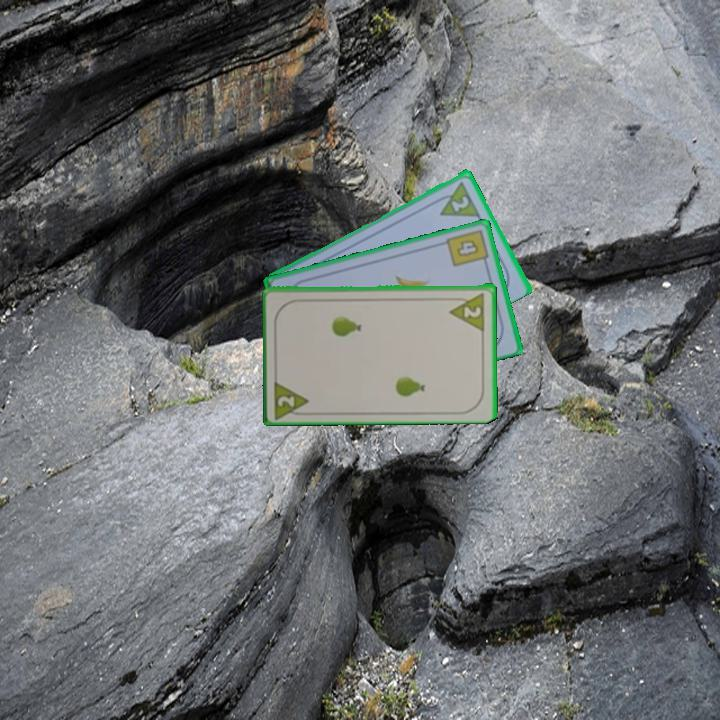2p: (431, 177, 483, 220), (271, 375, 313, 420), (447, 289, 487, 332)
4b: (443, 225, 491, 270)
